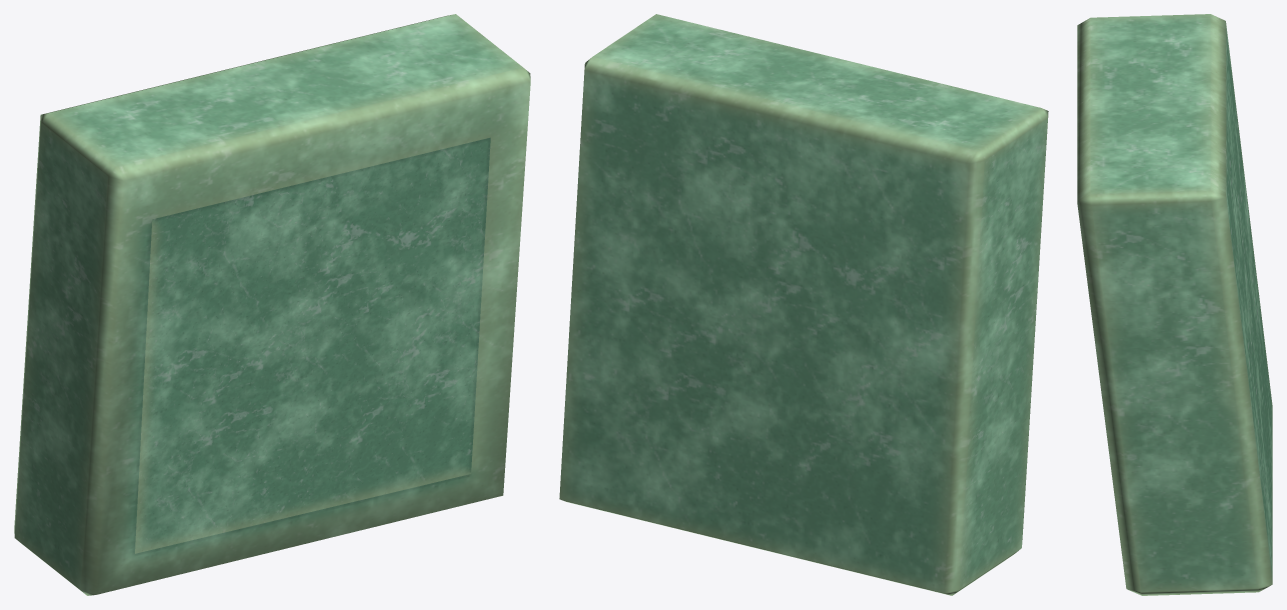
Rendered from totemv02.fbx.
3 renders of one model, left to right at view 1: azimuth 30°, elevation 25°; view 2: azimuth 150°, elevation 25°; view 3: azimuth 270°, elevation 25°, orthographic. The views are drawn at different scales.
Parts seen in each view (by area): view 1: tomb1; view 2: tomb1; view 3: tomb1.
Boxes of the visible parts, x1,y1,x2,y2 form: tomb1: [14, 14, 530, 595]; tomb1: [559, 14, 1048, 595]; tomb1: [1077, 14, 1272, 595].
Size of the model in its own units: 14.06 by 14.47 by 6.33.
2 materials, 2 textured.
